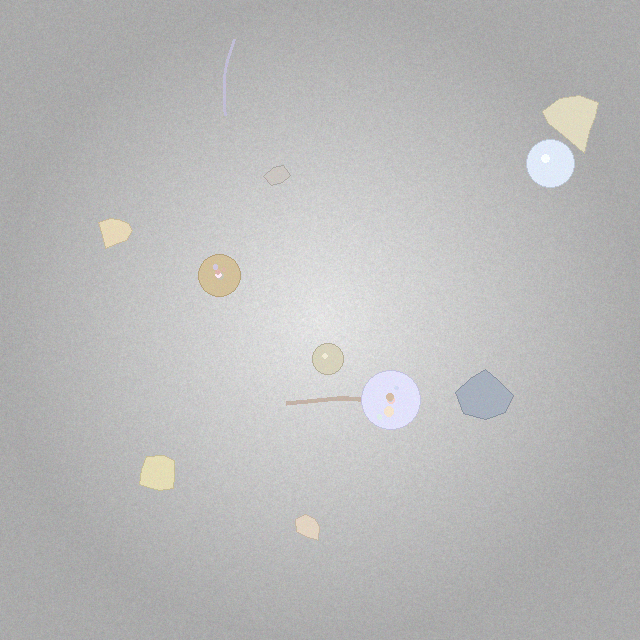fiber: (281, 393, 415, 410), (221, 36, 238, 119)
foam: (361, 370, 420, 429), (198, 254, 241, 297)
fragment: (542, 96, 599, 153), (456, 369, 514, 419), (140, 455, 174, 491), (98, 218, 133, 249), (296, 515, 319, 540), (264, 165, 291, 185)
pellet: (526, 139, 574, 187), (313, 344, 344, 375)
